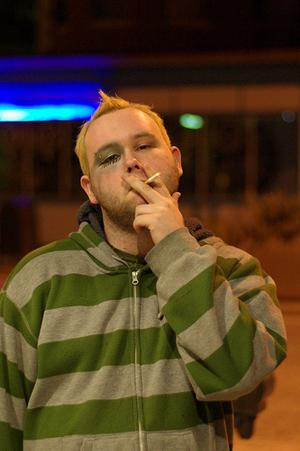person: (1, 89, 287, 449)
